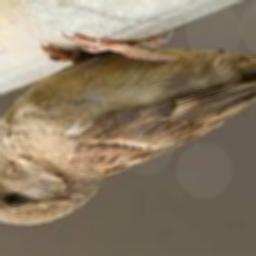Sparrow: (0, 32, 256, 227)
